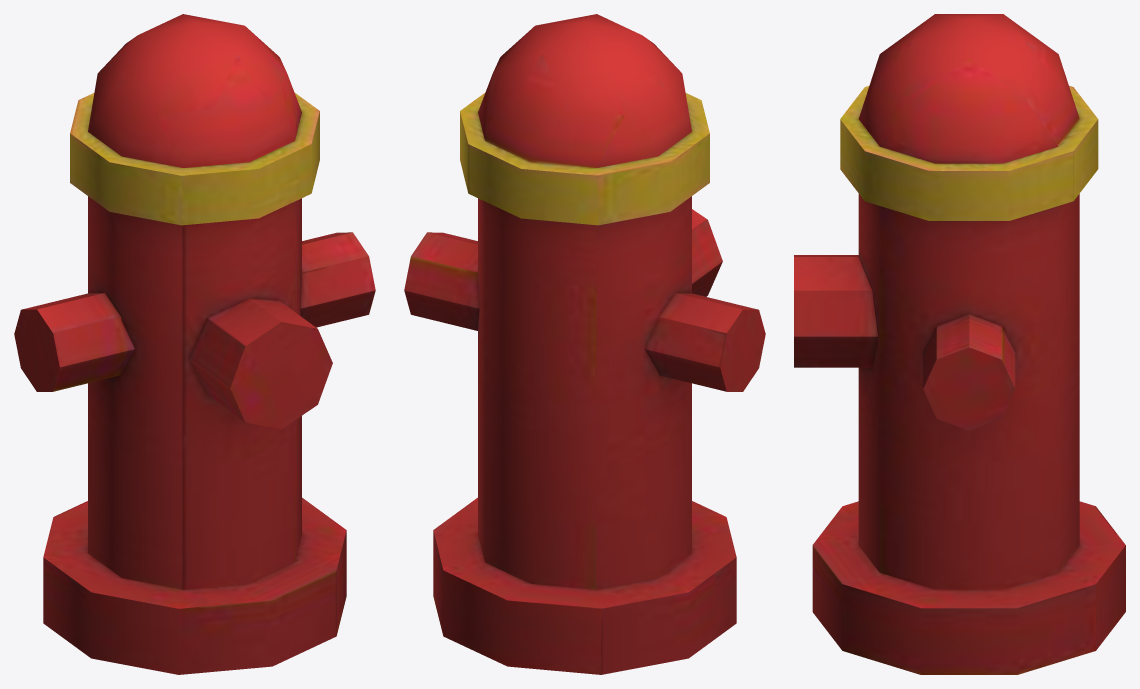
Rendered from hidrante.glb.
3 views of the same model, side by side, from view 1: azimuth 30°, elevation 25°; view 2: azimuth 150°, elevation 25°; view 3: azimuth 270°, elevation 25° (orthographic).
Parts seen in each view (by area): view 1: hidrante; view 2: hidrante; view 3: hidrante.
Part boxes in pixels (x1=…): hidrante: x1=14, y1=14, x2=375, y2=674; hidrante: x1=404, y1=14, x2=765, y2=674; hidrante: x1=794, y1=14, x2=1125, y2=674.
Size of the model in its own units: 0.4 by 0.71 by 0.36.
Materials: 1 (1 with a texture image).
